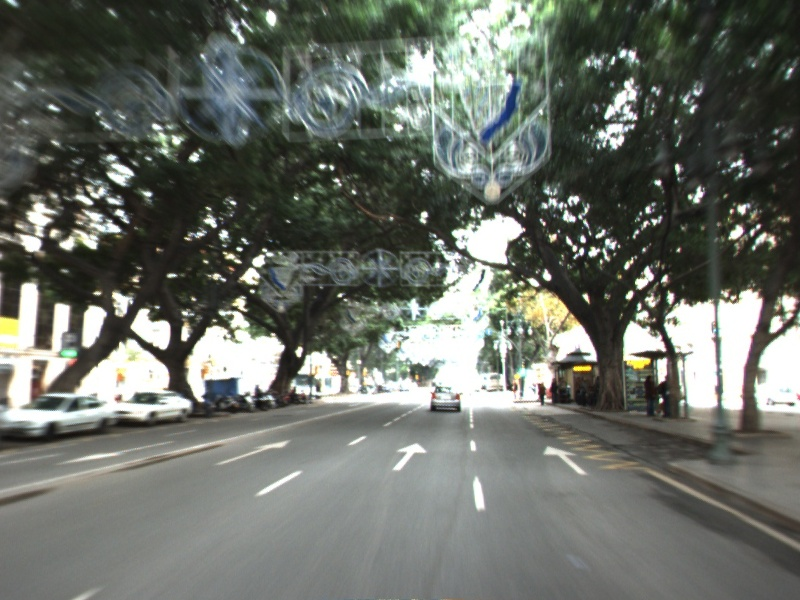STRAIGHT: (212, 438, 294, 467), (541, 443, 591, 477), (390, 440, 429, 472)
